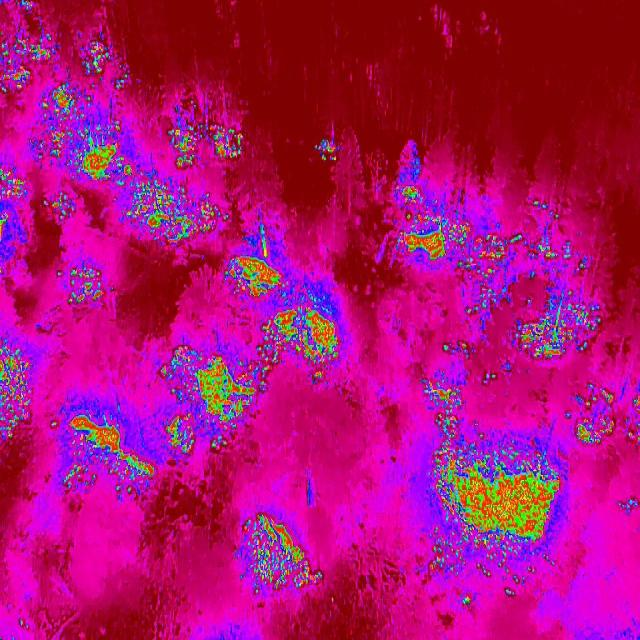fire: (416, 433, 575, 593), (0, 0, 133, 186), (459, 206, 605, 368), (219, 226, 348, 376), (154, 343, 266, 461), (51, 403, 160, 502), (120, 157, 228, 253), (390, 152, 473, 266), (230, 511, 329, 602), (164, 102, 257, 168), (558, 383, 640, 449), (405, 362, 472, 433), (0, 336, 32, 442), (54, 264, 114, 310), (0, 187, 32, 262), (311, 132, 346, 166), (42, 196, 80, 224)
